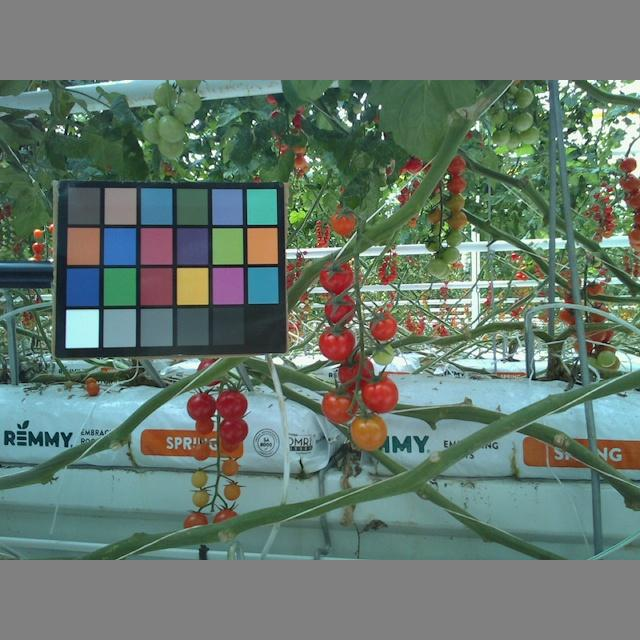green: (156, 115, 187, 143), (152, 81, 177, 109), (173, 102, 197, 125), (372, 341, 394, 365), (192, 488, 211, 509), (191, 468, 209, 488)
pink: (351, 415, 388, 451), (192, 443, 212, 461), (219, 458, 240, 474), (225, 481, 241, 502)
red: (318, 324, 359, 361), (337, 354, 375, 393), (323, 290, 360, 328), (320, 391, 360, 426), (360, 378, 401, 412), (320, 258, 353, 298), (215, 390, 247, 420), (368, 313, 399, 341), (218, 414, 249, 441), (187, 392, 215, 421), (330, 206, 355, 234), (194, 412, 215, 433)
